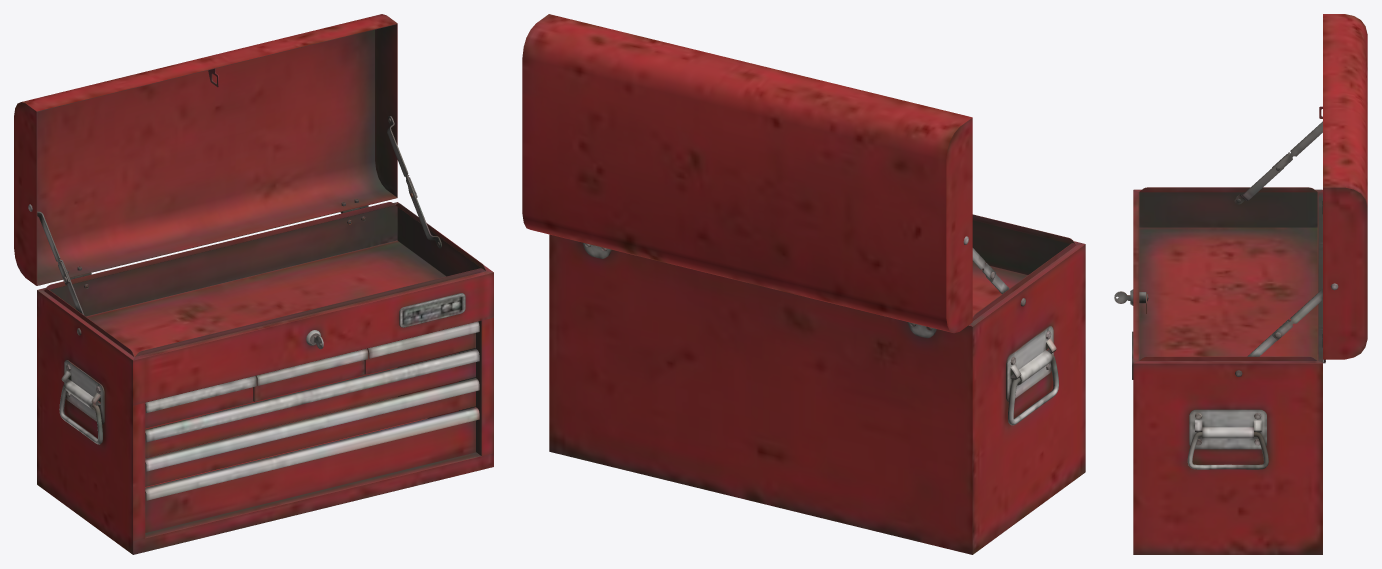
The model's file is tool_chest.glb.
The picture shows the model from 3 angles, left to right: view 1: azimuth 30°, elevation 25°; view 2: azimuth 150°, elevation 25°; view 3: azimuth 270°, elevation 25°; orthographic projection. The views are drawn at different scales.
Parts seen in each view (by area): view 1: metal_tool_chest_chest, metal_tool_chest_lid, metal_tool_chest_hinge_lid, metal_tool_chest_hinge_chest, metal_tool_chest_handle_left; view 2: metal_tool_chest_chest, metal_tool_chest_lid, metal_tool_chest_handle_left; view 3: metal_tool_chest_chest, metal_tool_chest_lid, metal_tool_chest_hinge_lid, metal_tool_chest_hinge_chest, metal_tool_chest_handle_right, metal_tool_chest_lock.
Boxes of the visible parts, left/top/right/bottom form: metal_tool_chest_chest: left=37, top=202, right=493, bottom=554; metal_tool_chest_lid: left=14, top=14, right=397, bottom=285; metal_tool_chest_hinge_lid: left=28, top=116, right=417, bottom=285; metal_tool_chest_hinge_chest: left=59, top=175, right=441, bottom=335; metal_tool_chest_handle_left: left=59, top=383, right=102, bottom=444; metal_tool_chest_chest: left=549, top=214, right=1085, bottom=554; metal_tool_chest_lid: left=522, top=14, right=972, bottom=333; metal_tool_chest_handle_left: left=1008, top=354, right=1058, bottom=425; metal_tool_chest_chest: left=1132, top=187, right=1325, bottom=554; metal_tool_chest_lid: left=1319, top=14, right=1367, bottom=359; metal_tool_chest_hinge_lid: left=1272, top=121, right=1338, bottom=340; metal_tool_chest_hinge_chest: left=1234, top=152, right=1290, bottom=376; metal_tool_chest_handle_right: left=1187, top=432, right=1268, bottom=469; metal_tool_chest_lock: left=1114, top=289, right=1148, bottom=313.
Size of the model in its own units: 0.6854 by 0.6518 by 0.4072.
Materials: 1 (1 with a texture image).
